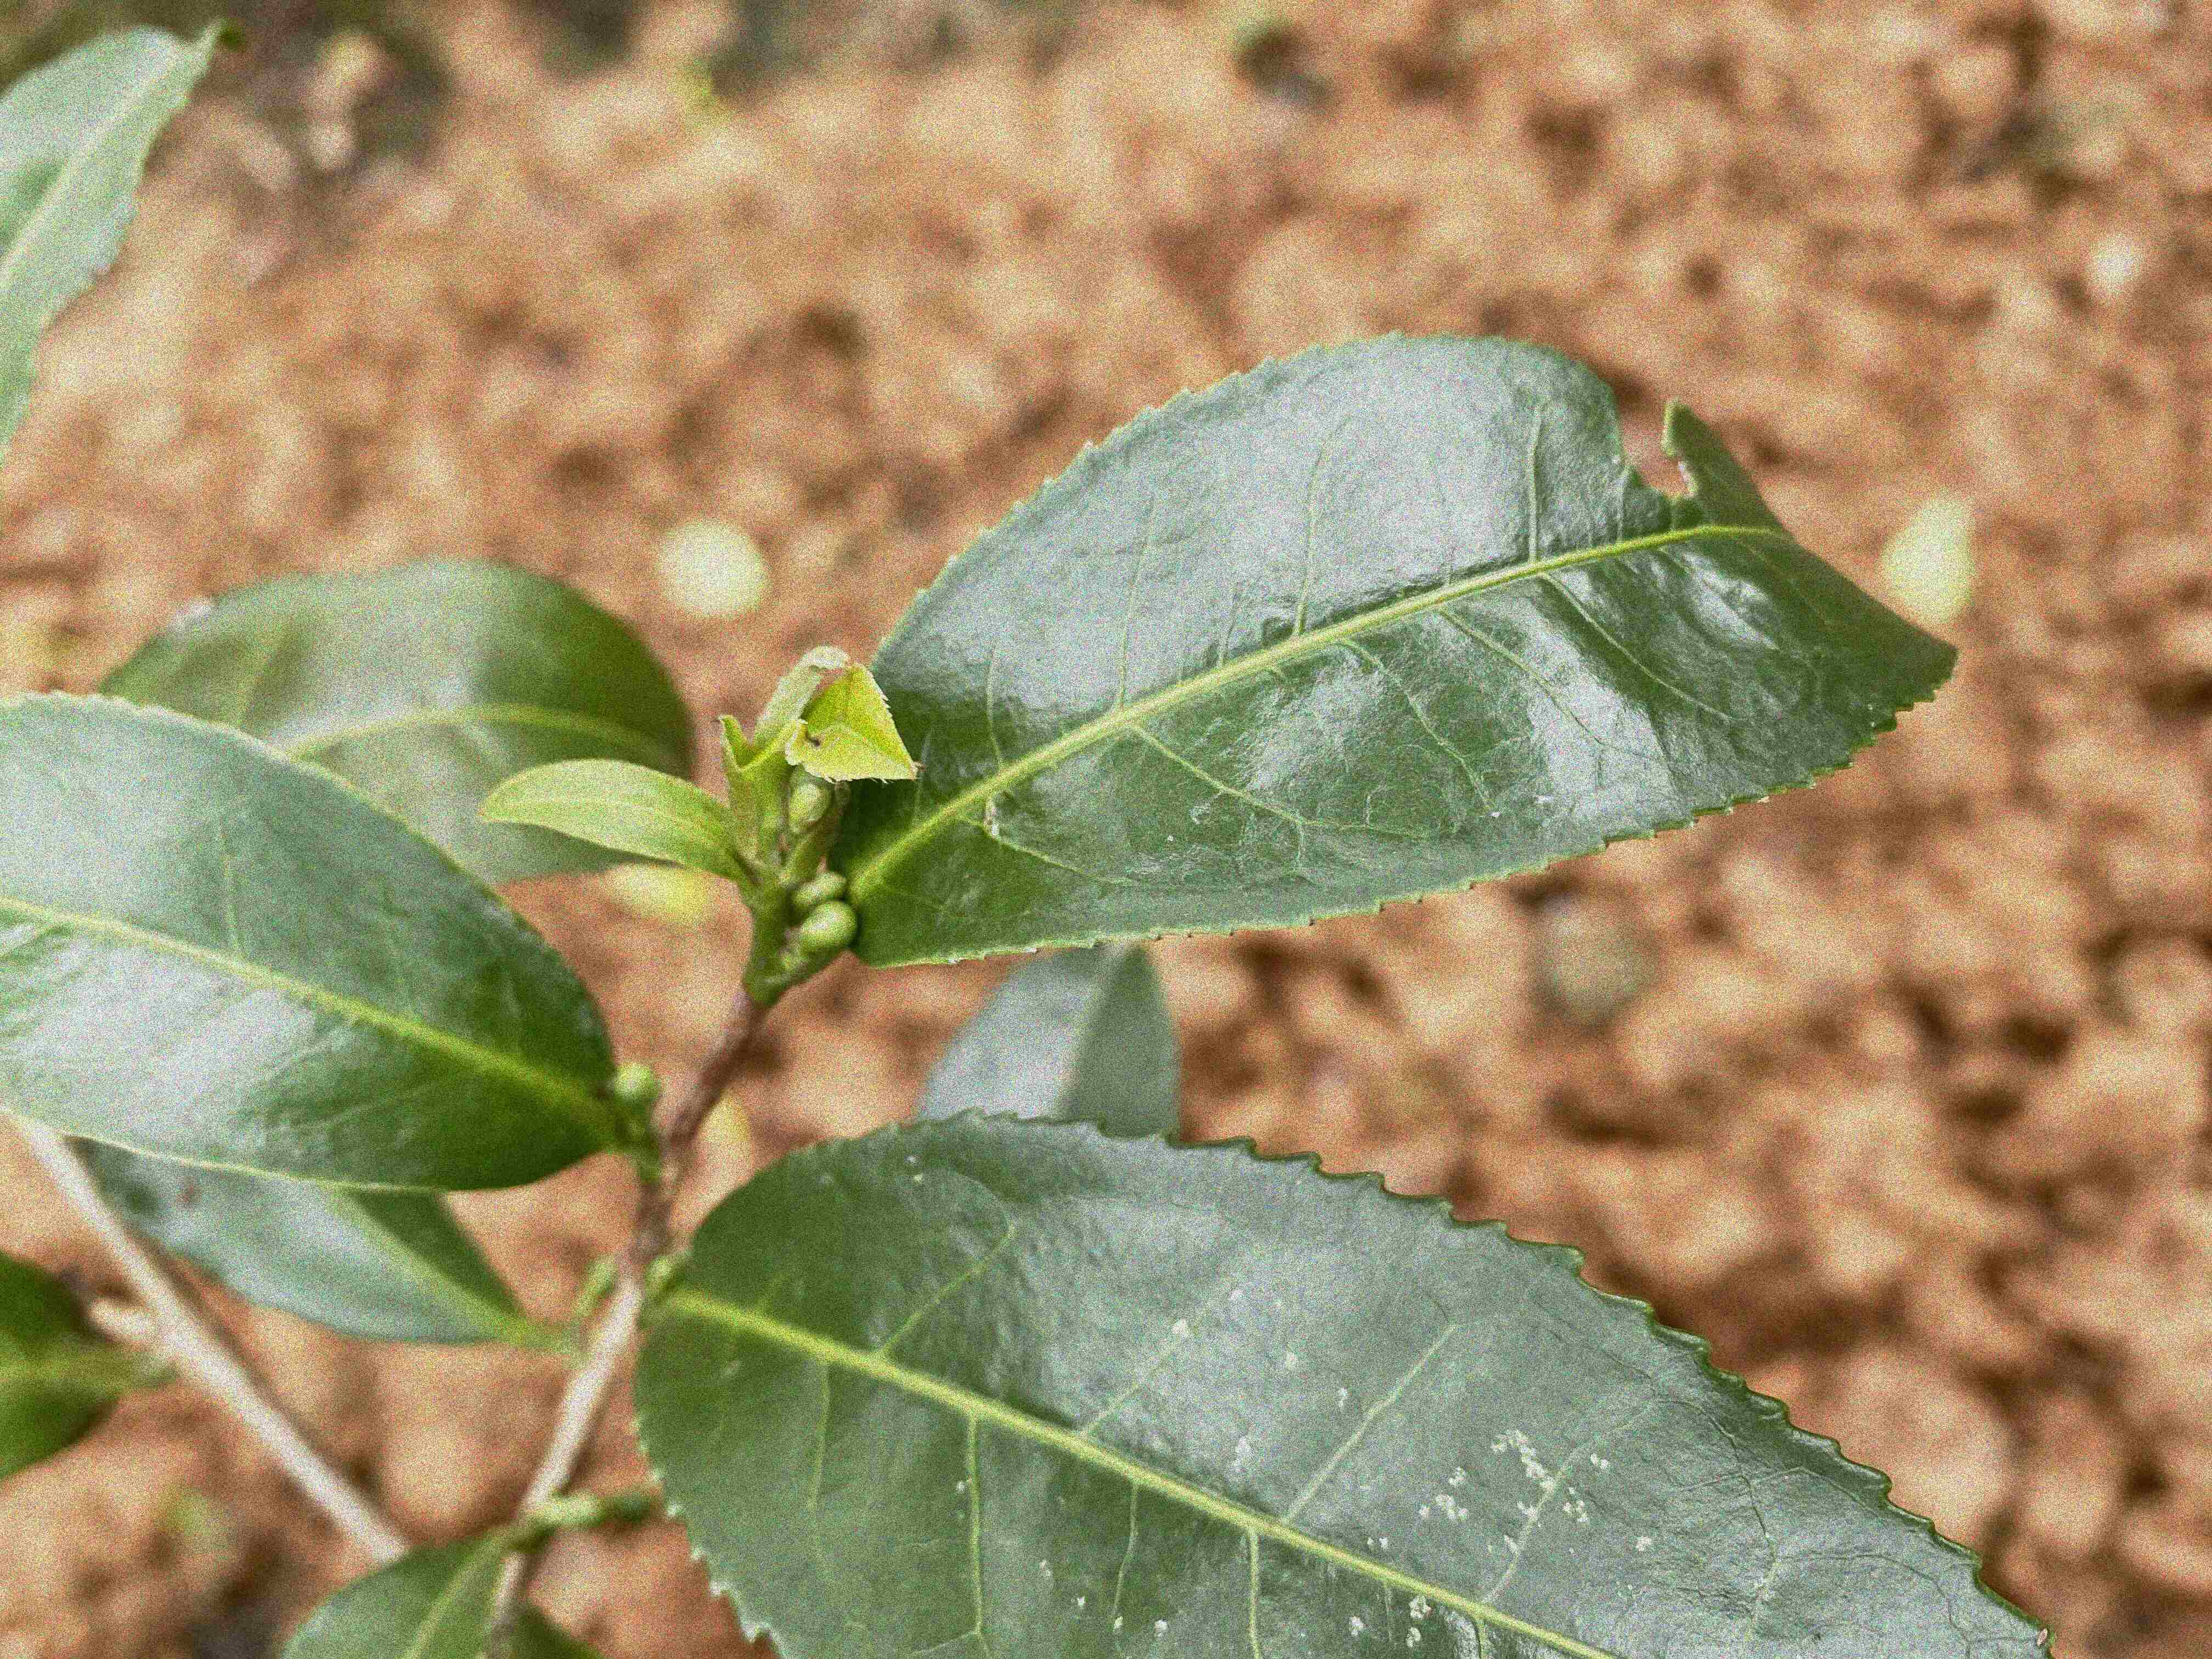chihuo_low: (834, 329, 1963, 969)
healthy: (3, 694, 613, 1192)
